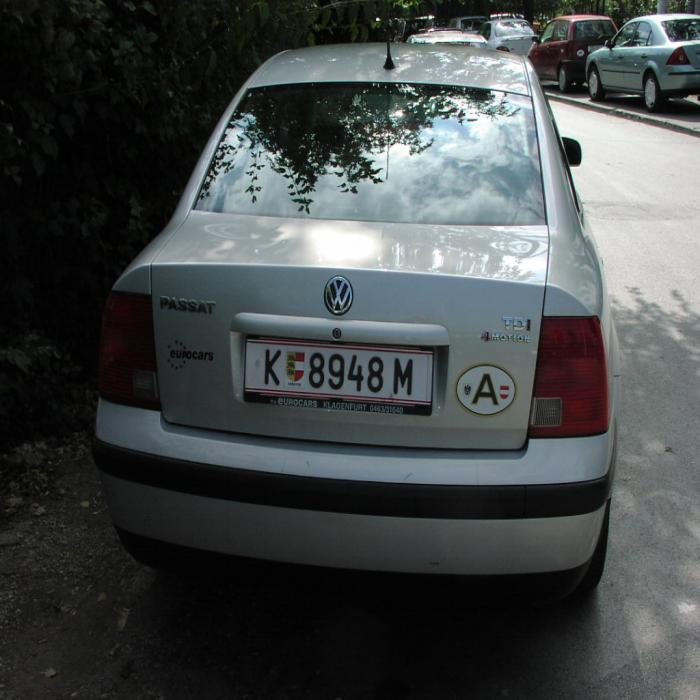number_plate: (246, 343, 431, 400)
